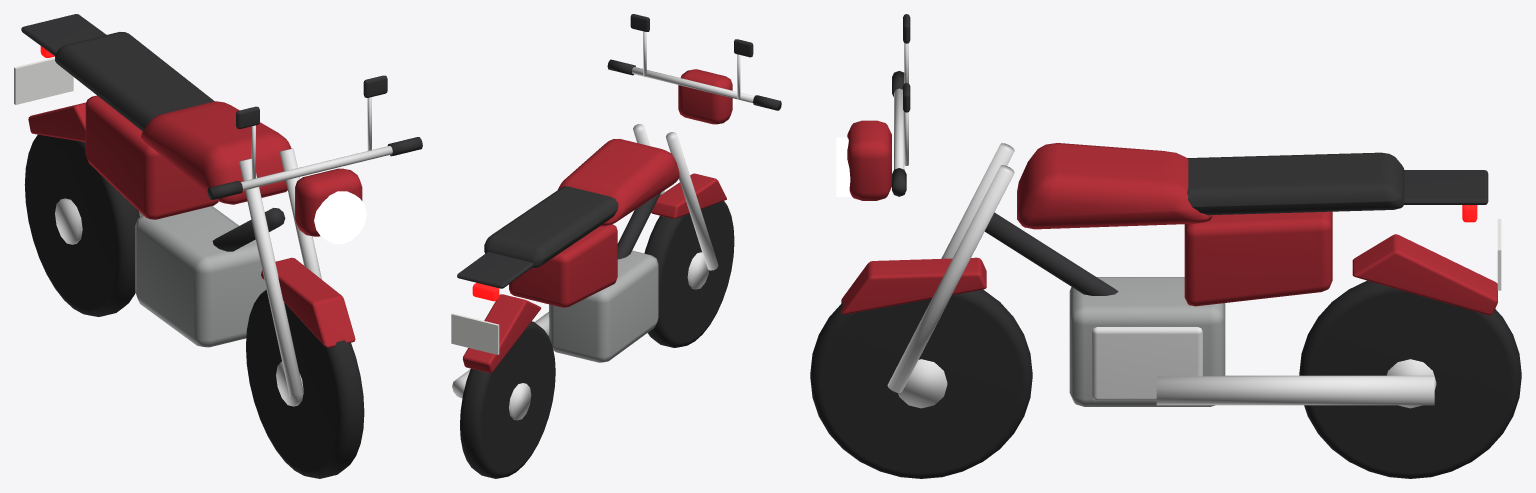
File: bike.glb
3 views of the same model, side by side, from view 1: azimuth 30°, elevation 25°; view 2: azimuth 150°, elevation 25°; view 3: azimuth 270°, elevation 25° (orthographic). The views are drawn at different scales.
Parts seen in each view (by area): view 1: Bike / Tyre rubber, Bike / Bike tank red, Bike / Dull steel, Bike / Seat vinyl, Bike / Chrome, Bike / Chassis black, Bike / Headlamp, Bike / Number plate; view 2: Bike / Tyre rubber, Bike / Bike tank red, Bike / Dull steel, Bike / Seat vinyl, Bike / Chrome, Bike / Chassis black, Bike / Number plate, Bike / Lamp red; view 3: Bike / Tyre rubber, Bike / Bike tank red, Bike / Chrome, Bike / Seat vinyl, Bike / Dull steel, Bike / Chassis black, Bike / Headlamp.
Boxes of the visible parts, x1,y1,x2,y2 form: Bike / Tyre rubber: (24, 134, 364, 478); Bike / Bike tank red: (28, 95, 362, 347); Bike / Dull steel: (135, 206, 266, 347); Bike / Seat vinyl: (55, 32, 422, 199); Bike / Chrome: (55, 97, 392, 406); Bike / Chassis black: (21, 14, 387, 251); Bike / Headlamp: (314, 191, 366, 244); Bike / Number plate: (14, 57, 73, 104); Bike / Tyre rubber: (460, 201, 734, 478); Bike / Bike tank red: (463, 69, 732, 373); Bike / Dull steel: (549, 250, 658, 362); Bike / Seat vinyl: (484, 59, 781, 268); Bike / Chrome: (452, 31, 754, 420); Bike / Chassis black: (457, 14, 753, 288); Bike / Number plate: (451, 313, 499, 354); Bike / Lamp red: (472, 282, 499, 301); Bike / Tyre rubber: (810, 280, 1521, 478); Bike / Bike tank red: (841, 120, 1497, 315); Bike / Chrome: (887, 43, 1436, 408); Bike / Seat vinyl: (892, 71, 1404, 215); Bike / Dull steel: (1069, 277, 1225, 406); Bike / Chassis black: (903, 14, 1488, 295); Bike / Headlamp: (836, 137, 851, 196).
Size of the model in its own units: 0.7201 by 1.26 by 1.92.
